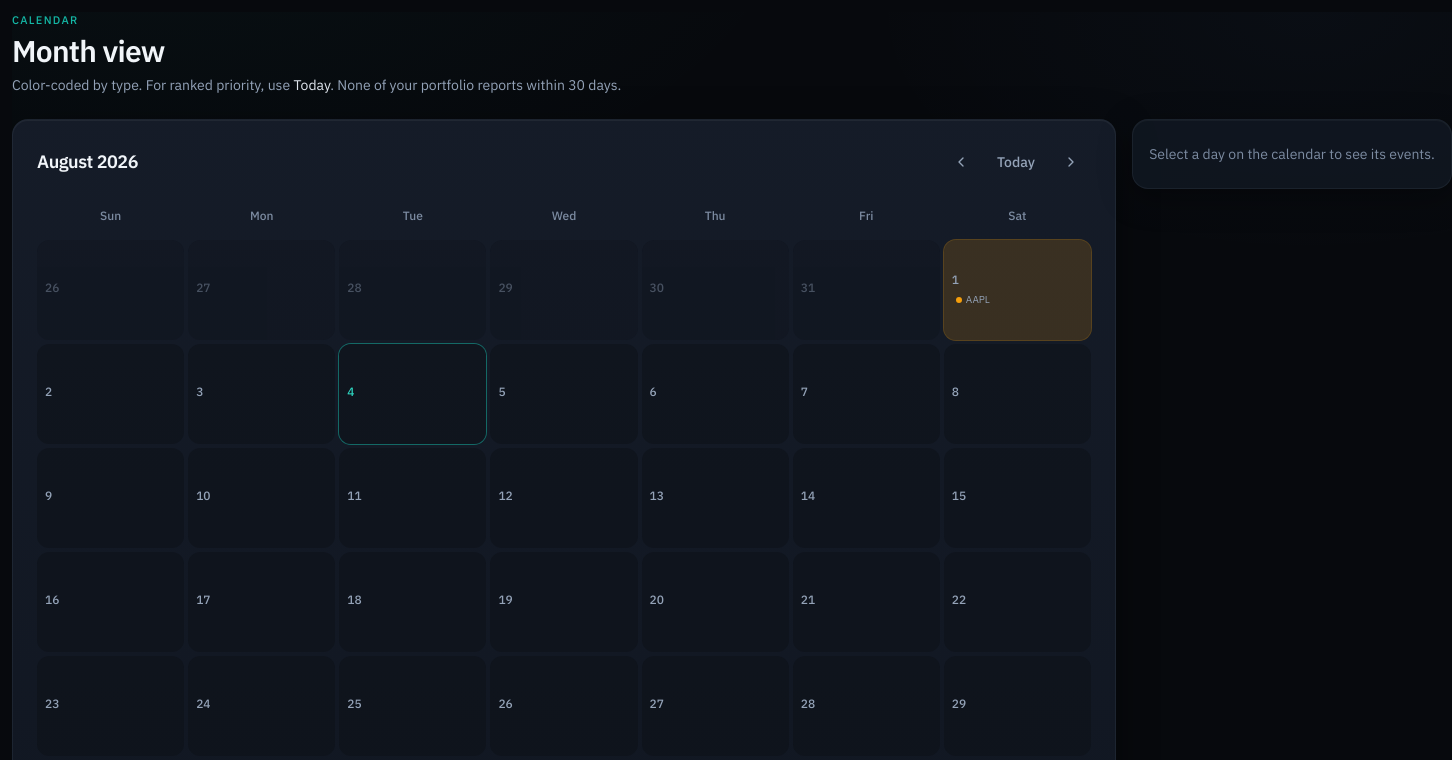
Test: CalendarPage › selecting a day with an event populates the detail panel
Click the button "1 AAPL" at (1017, 290), box [944,240,1091,340]
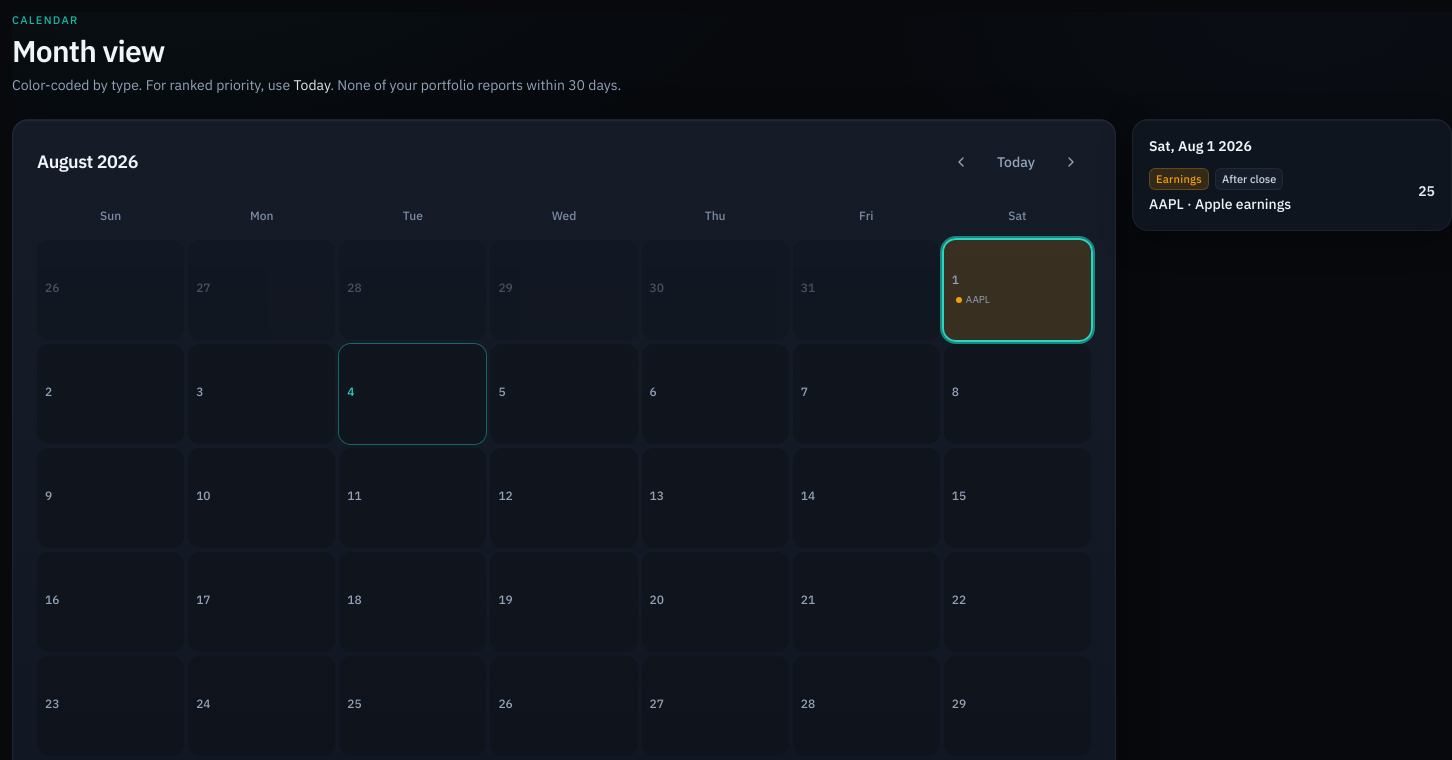
expect the text "AAPL · Apple earnings" is shown: met, box [1149,194,1291,214]
